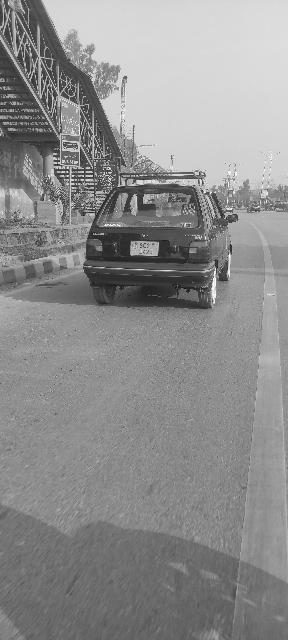Number: (139, 243, 153, 255)
